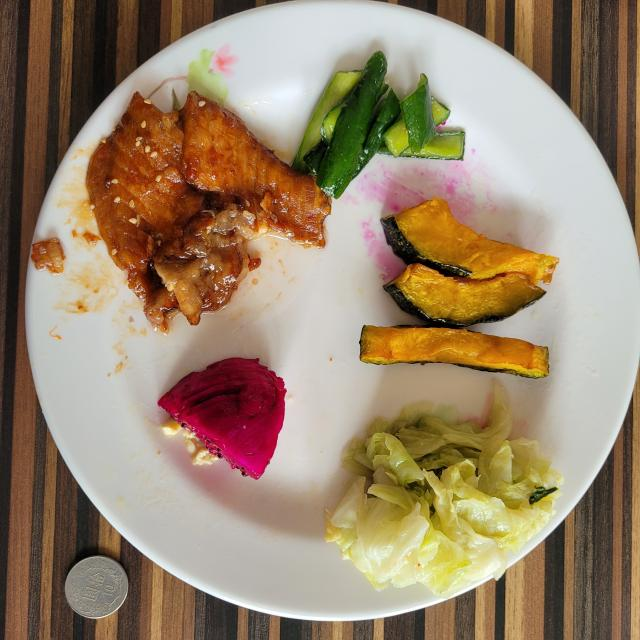Kabayaki sea bream fillet: (86, 92, 330, 331)
cabbage: (325, 385, 561, 596)
coin: (65, 556, 129, 619)
cucumber: (292, 51, 465, 198)
pumpkin: (381, 199, 559, 328), (360, 326, 549, 378)
